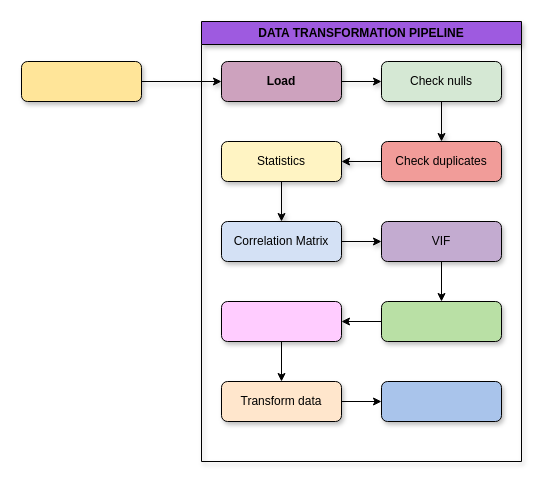
Some shapes in this 545 by 486 pixel diagram are drawn without their labels. Here are the shapes that lost their labels. From the top down, the centre of each, then its label:
(82,82): ".csv" file
(282,322): Skewness
(442,322): Outliers
(442,402): SAVE
